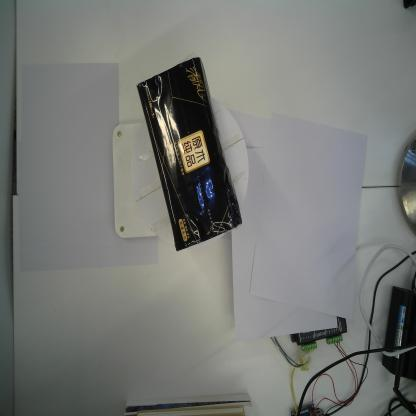Tissue: (134, 57, 242, 250)
